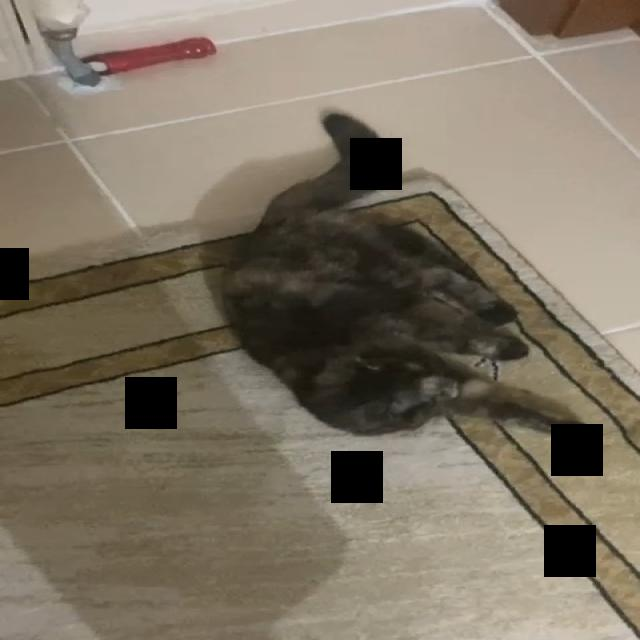authorized: (214, 107, 590, 443)
